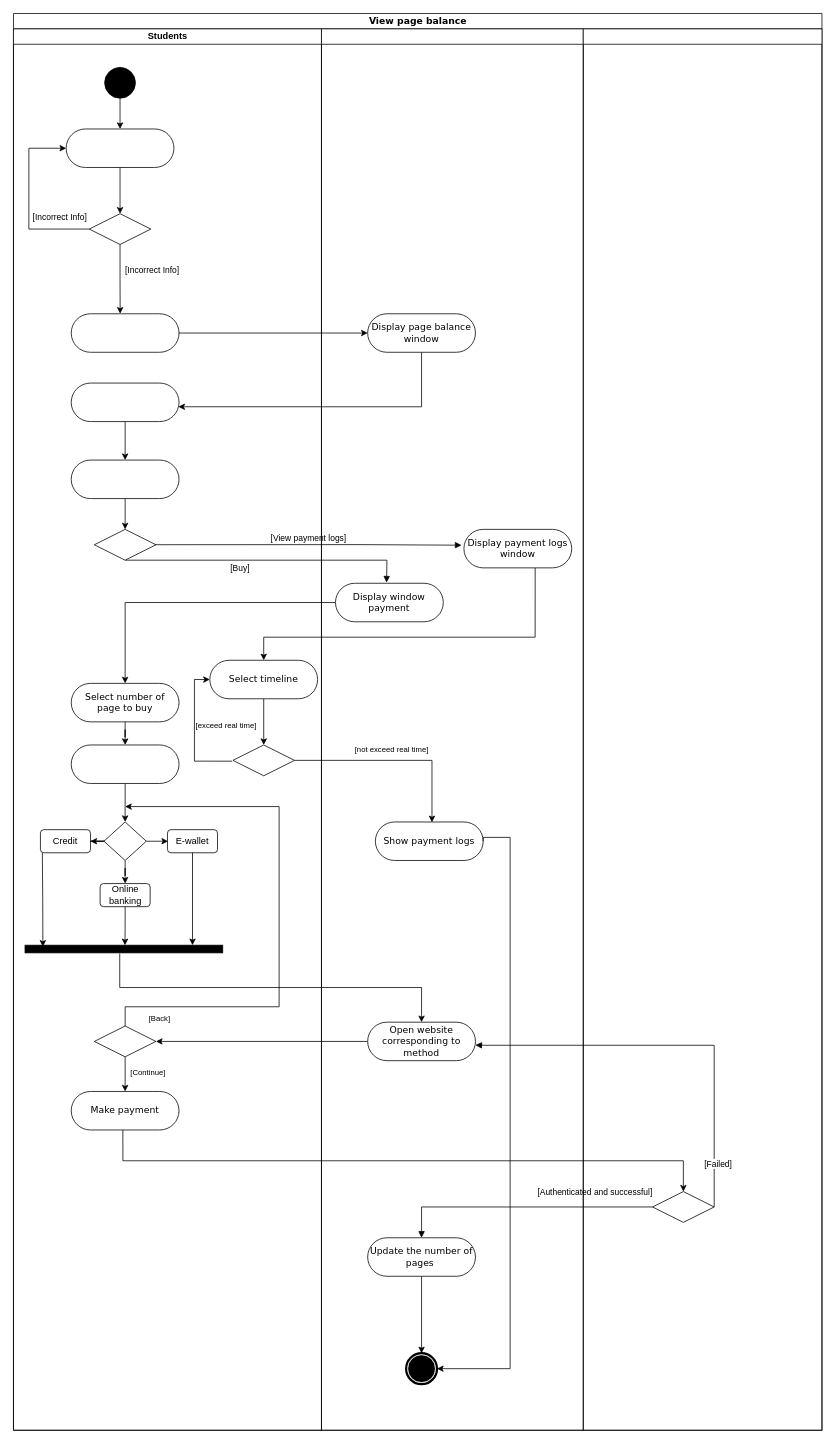
This 835x1444 diagram has some shape labels left out. The shapes that lost their labels are listed below. From the top down, each one's box as (x1, y1, x2, y2) in pixels, then its label:
(65, 128, 174, 167): Login
(70, 313, 179, 352): Choose view page balance
(70, 382, 179, 422): Choose buy printing pages
(70, 459, 179, 499): Choose action
(321, 28, 583, 1430): System
(583, 28, 822, 1430): Online Payment Providers
(70, 744, 179, 783): Select payment method
